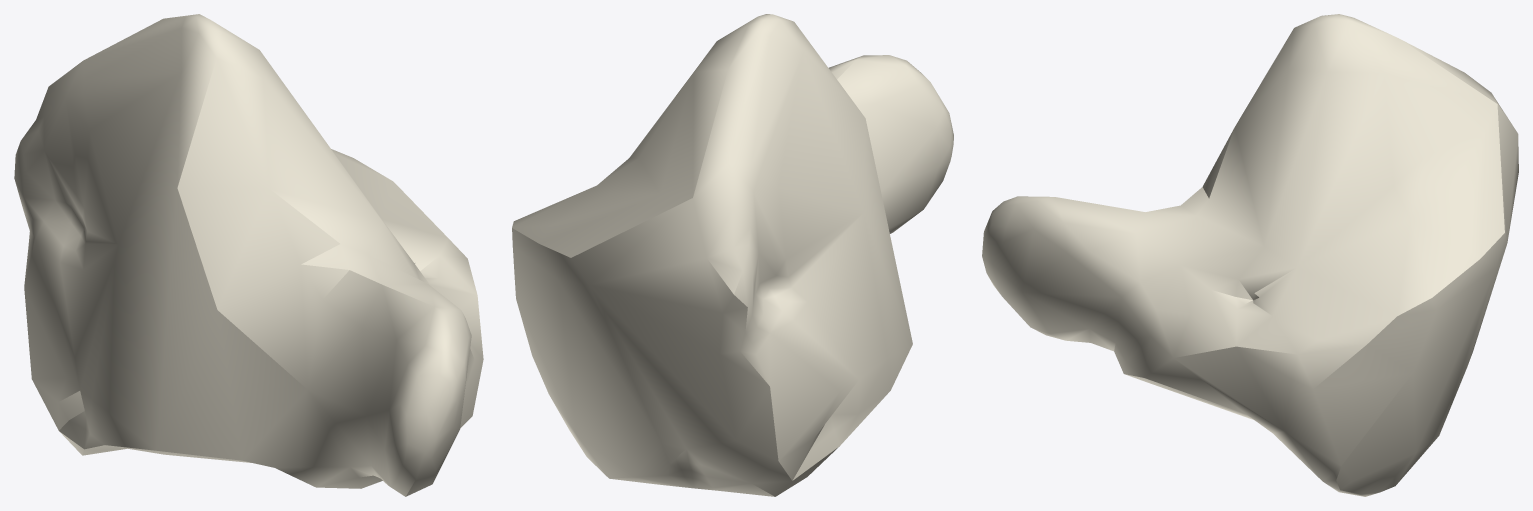
The model's file is fma24448_fj3367.glb.
The picture shows the model from 3 angles, left to right: view 1: azimuth 30°, elevation 25°; view 2: azimuth 150°, elevation 25°; view 3: azimuth 270°, elevation 25°; orthographic projection. The views are drawn at different scales.
Parts seen in each view (by area): view 1: FMA24448_FJ3367; view 2: FMA24448_FJ3367; view 3: FMA24448_FJ3367.
Boxes of the visible parts, x1,y1,x2,y2 form: FMA24448_FJ3367: (14,14,483,496); FMA24448_FJ3367: (512,14,953,496); FMA24448_FJ3367: (982,14,1518,496).
Bounding box in the file's own units: 0.0153 × 0.0194 × 0.0225.
